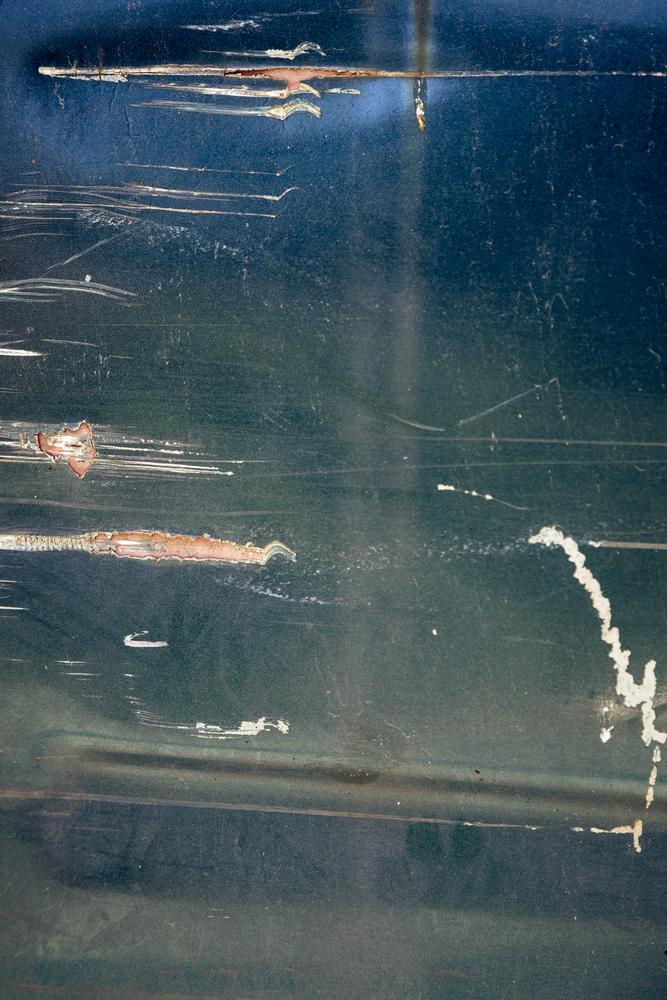scratch: (0, 0, 378, 749), (527, 505, 667, 855)
